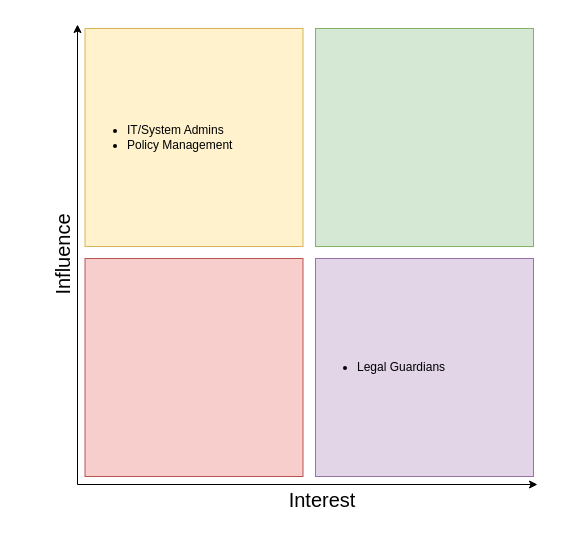
Image size: 563x537. Some labels were removed from this diagram. Each missing label, with the box of its shape:
Policyholders Beneficiaries Business Analysts: (84, 258, 303, 476)
Product Owner Marketing Managers Legal & Compliance: (314, 28, 534, 246)
